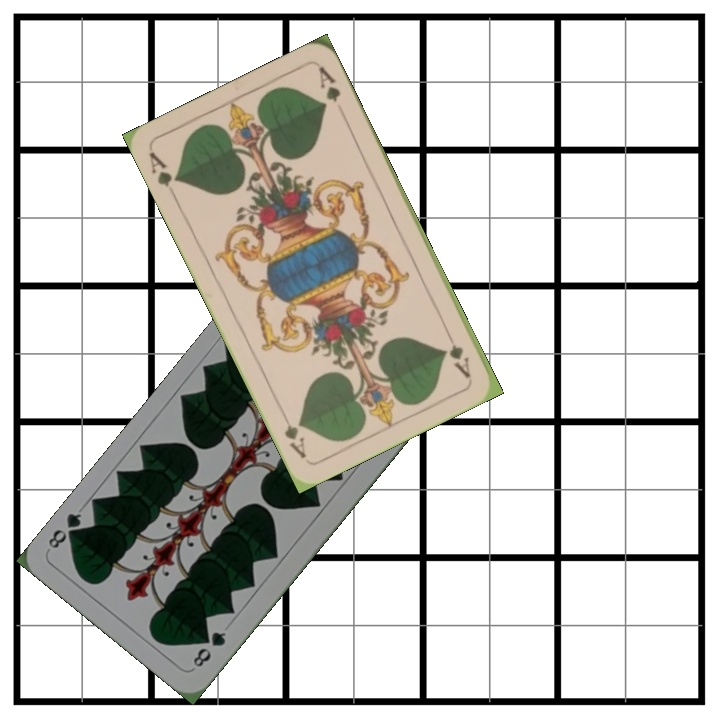G8: (188, 627, 229, 670)
GA: (145, 147, 183, 202), (441, 325, 473, 381)
